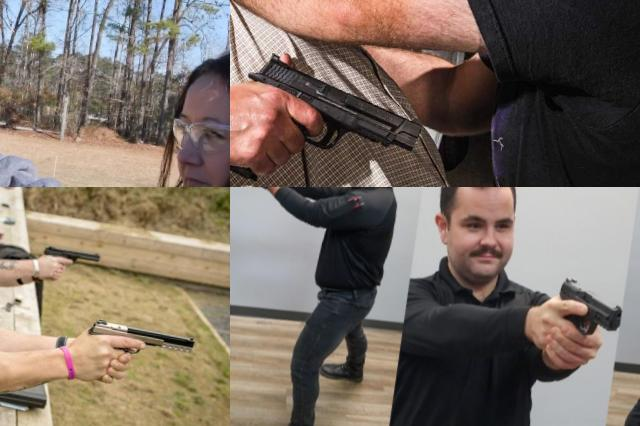handgun: (230, 43, 432, 187), (82, 316, 198, 375), (550, 271, 628, 346), (0, 109, 57, 183), (40, 244, 103, 278), (230, 187, 269, 202)
